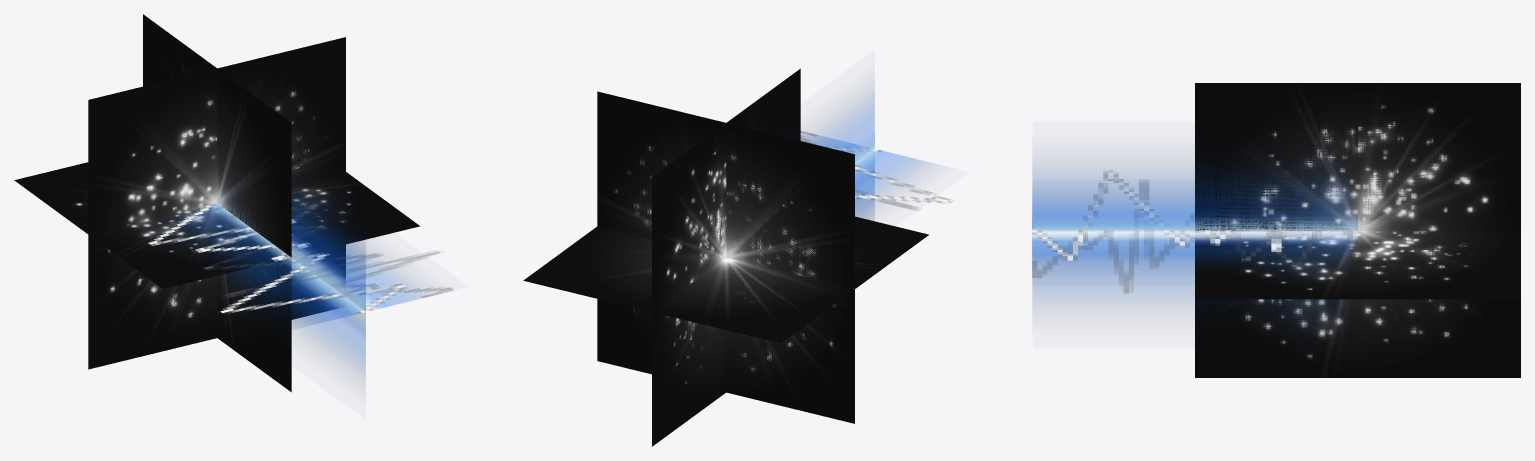
Rendered from si_eos_3100.glb.
3 views of the same model, side by side, from view 1: azimuth 30°, elevation 25°; view 2: azimuth 150°, elevation 25°; view 3: azimuth 270°, elevation 25° (orthographic). The views are drawn at different scales.
Parts seen in each view (by area): view 1: layer_02_si_est_0000, layer_01_si_eos_3100, layer_03_si_est_0200, layer_00_si_eoa_4201; view 2: layer_02_si_est_0000, layer_01_si_eos_3100, layer_03_si_est_0200, layer_00_si_eoa_4201; view 3: layer_02_si_est_0000, layer_01_si_eos_3100, layer_03_si_est_0200, layer_00_si_eoa_4201.
Boxes of the visible parts, left/top/right/bottom form: layer_02_si_est_0000: left=14, top=14, right=419, bottom=392; layer_01_si_eos_3100: left=172, top=188, right=428, bottom=379; layer_03_si_est_0200: left=73, top=89, right=352, bottom=334; layer_00_si_eoa_4201: left=148, top=204, right=453, bottom=314; layer_02_si_est_0000: left=523, top=68, right=928, bottom=446; layer_01_si_eos_3100: left=800, top=89, right=931, bottom=220; layer_03_si_est_0200: left=614, top=146, right=835, bottom=383; layer_00_si_eoa_4201: left=801, top=131, right=951, bottom=209; layer_02_si_est_0000: left=1195, top=83, right=1520, bottom=377; layer_01_si_eos_3100: left=1032, top=159, right=1357, bottom=319; layer_03_si_est_0200: left=1228, top=105, right=1491, bottom=359; layer_00_si_eoa_4201: left=1032, top=171, right=1357, bottom=292.
Size of the model in its own units: 10 by 10 by 15.
Materials: 4 (4 with a texture image).
